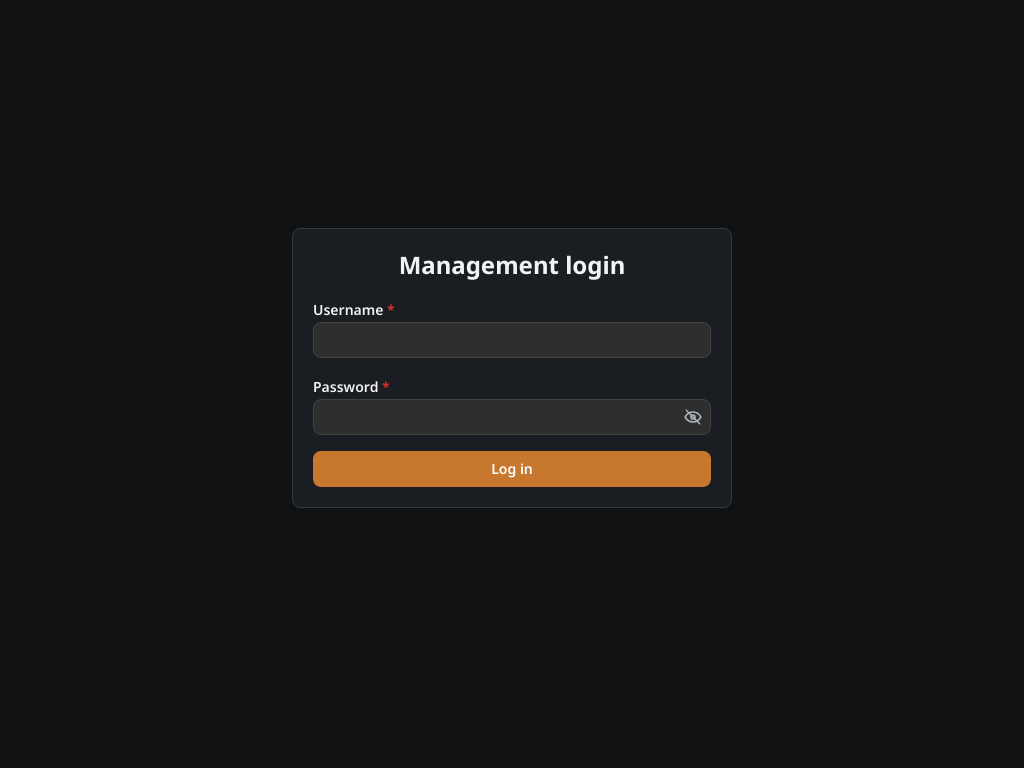
AdminScreen › reprobes after successful login and loads the program list
Type "admin" into the field labelled "Username". click: (512, 340)
box: x1=313 y1=322 x2=711 y2=358
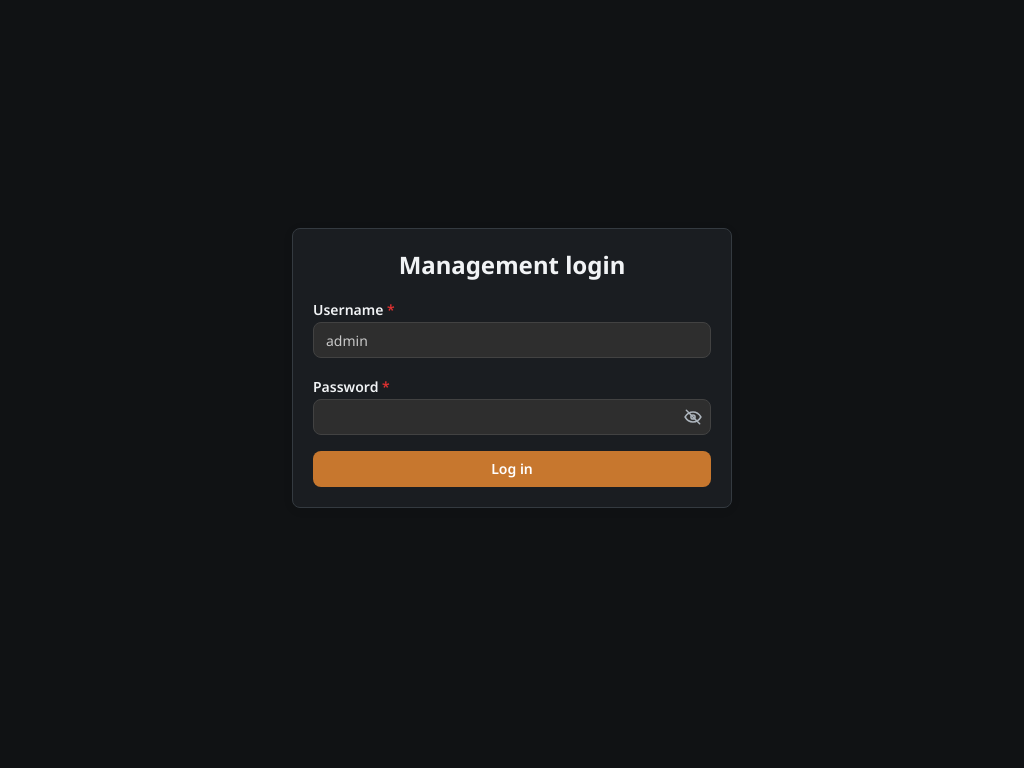
Type "admin-pass" into the password field labelled "Password". click: (512, 417)
box: x1=313 y1=399 x2=711 y2=435
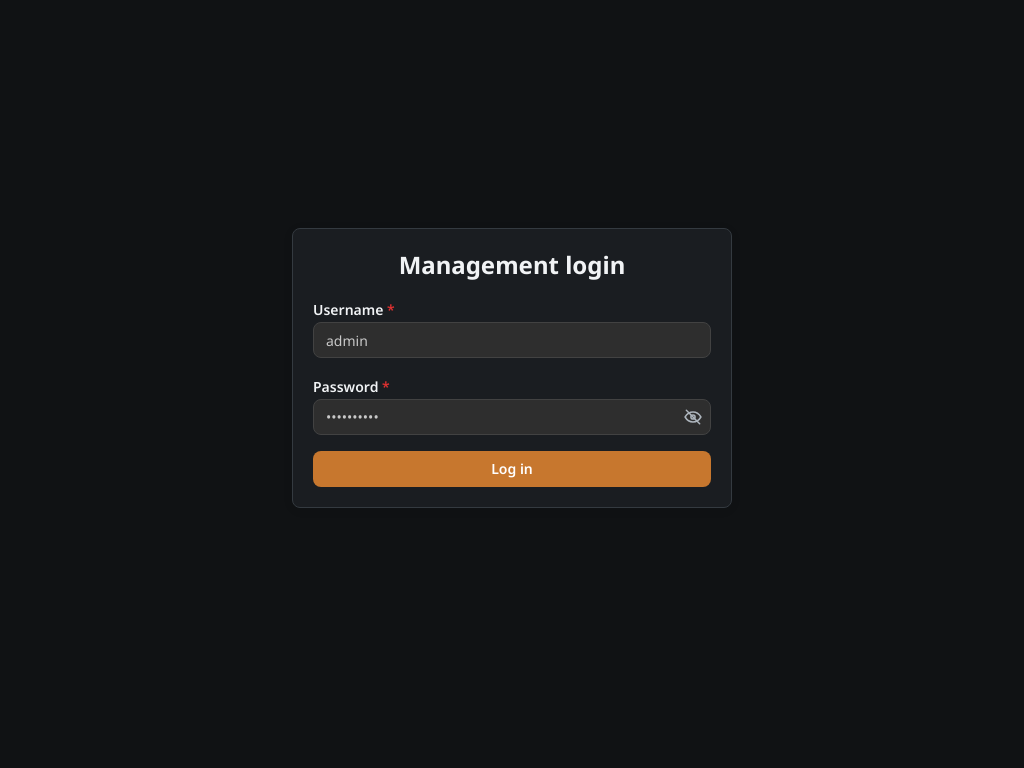
Click the button "Log in". click: (512, 469)
box: x1=313 y1=451 x2=711 y2=487
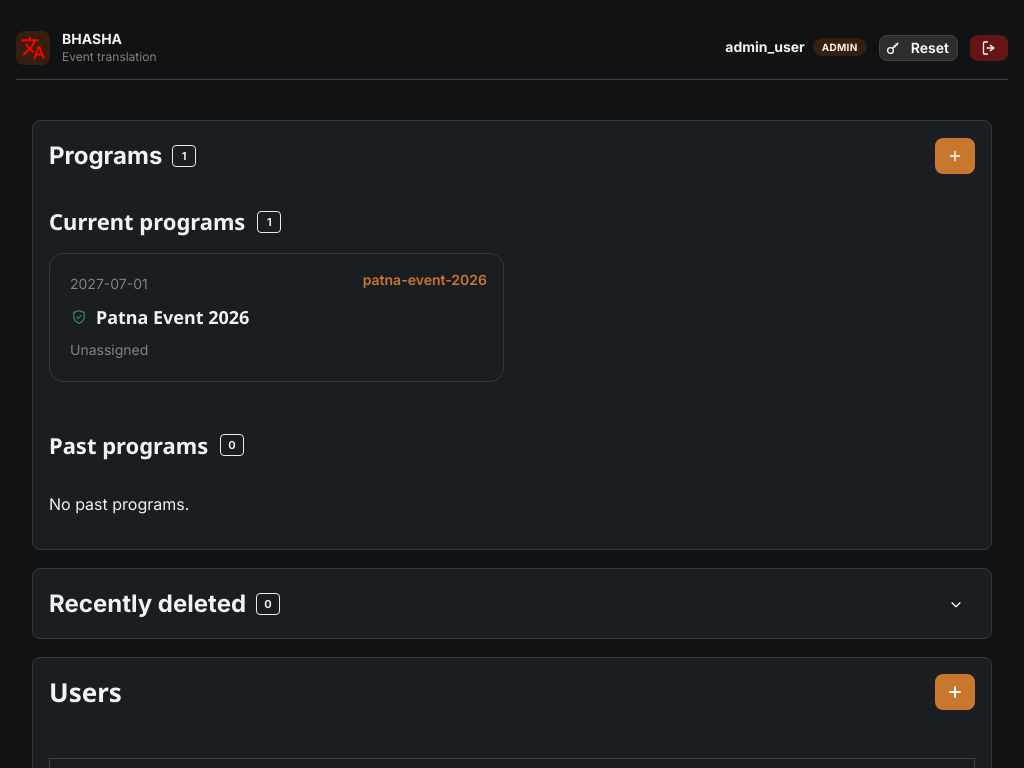
Expected: the heading "Patna Event 2026" is shown, x1=96 y1=304 x2=249 y2=330
